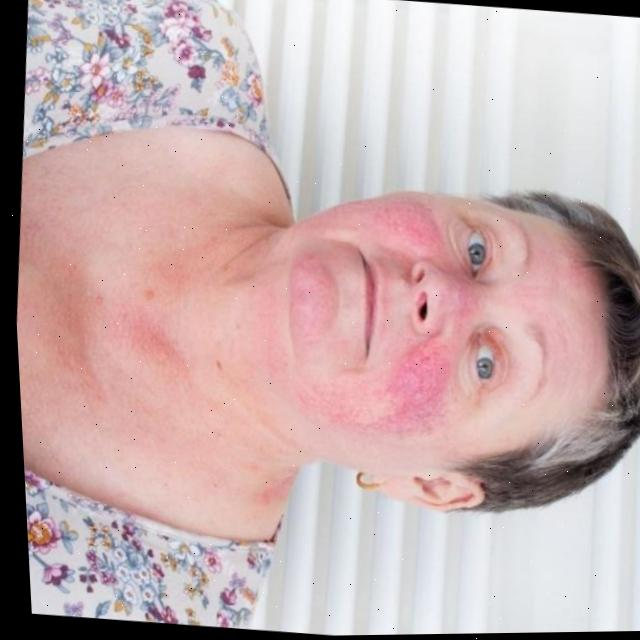Rosacea: (369, 327, 463, 439), (358, 188, 447, 256)
